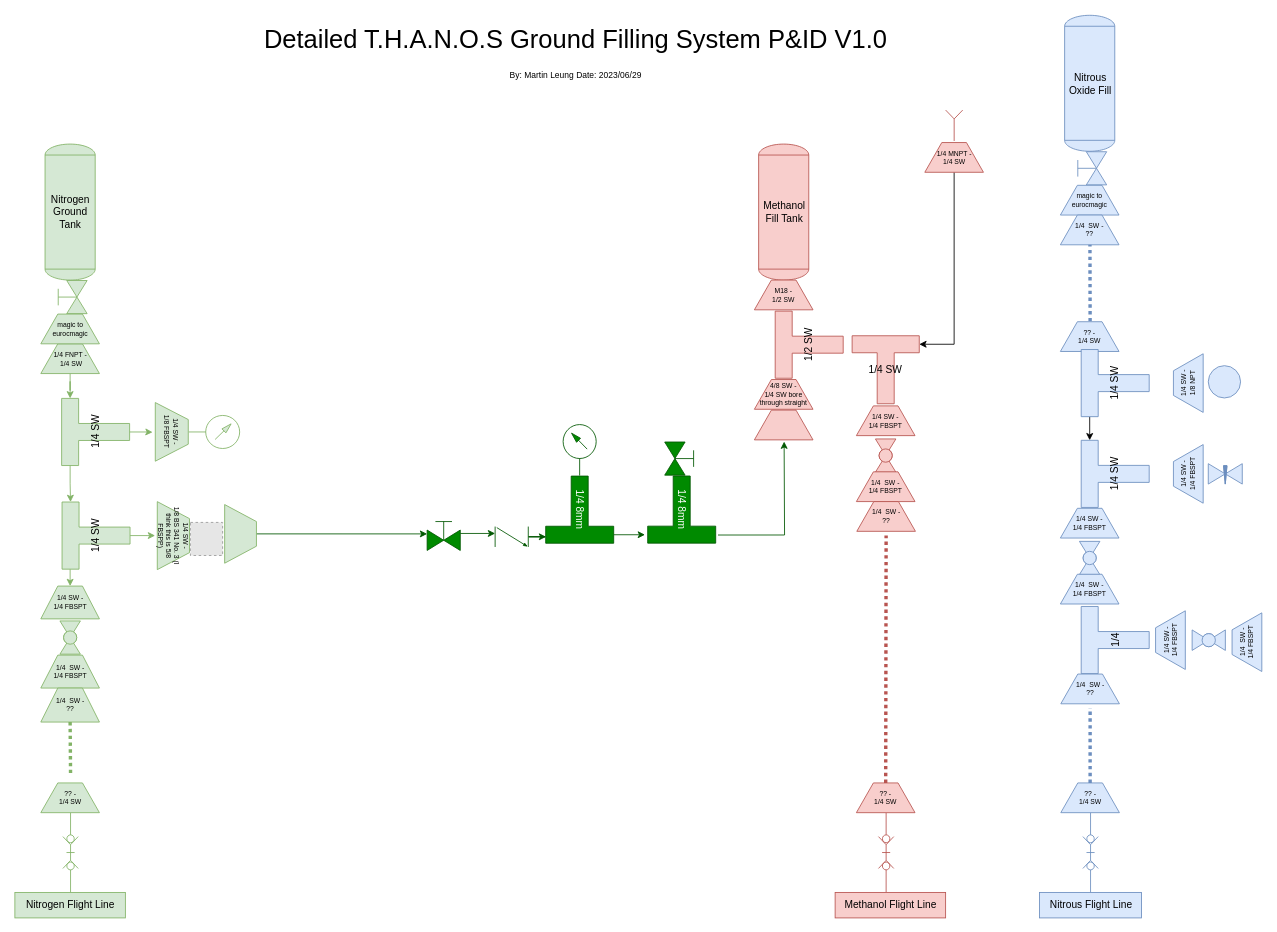
The diagram is 1277 pixels wide and 932 high, and some of its shapes have lost their labels. Grey dashed boxes stand in for pictures. Each missing label, with the centre of its shape:
1/4 SW - 1/4 FBSPP: point (783, 424)
3/8 FBSPP - 1/4 FBSPP: point (240, 533)
P1: point (1224, 381)
